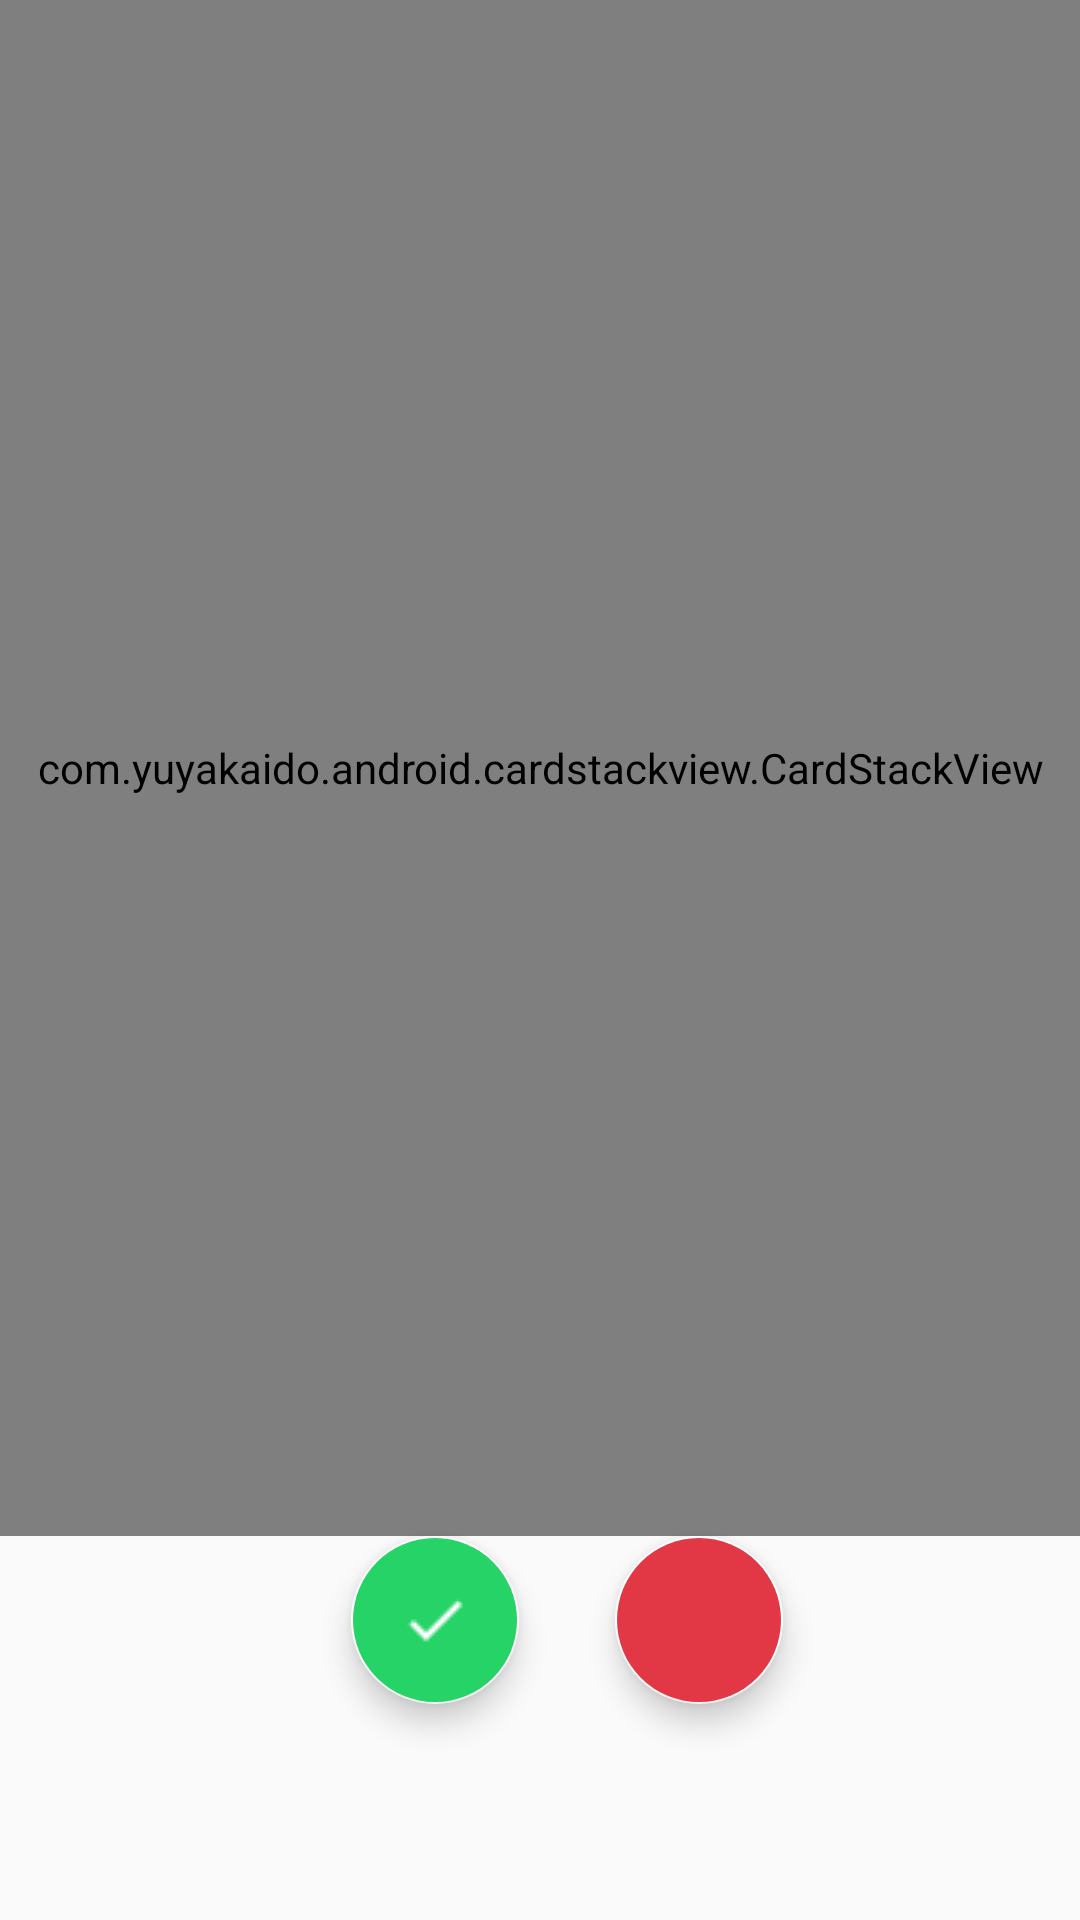

Named icons in this screenshot (1080px x 1920px) and their centers, [x,y]:
done: [435,1620]
